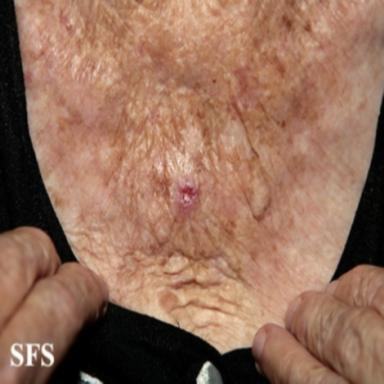basal-cell-carcinoma: (170, 170, 203, 216)
